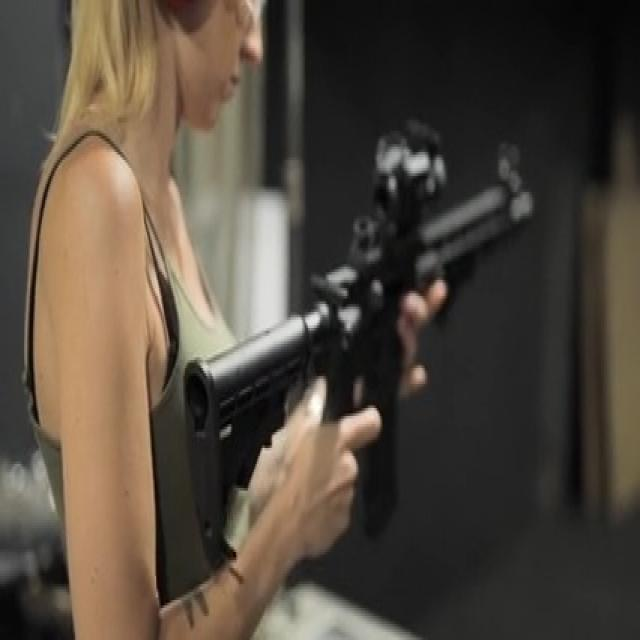Gun_Holder: (165, 106, 599, 615)
Person: (23, 0, 380, 640)
